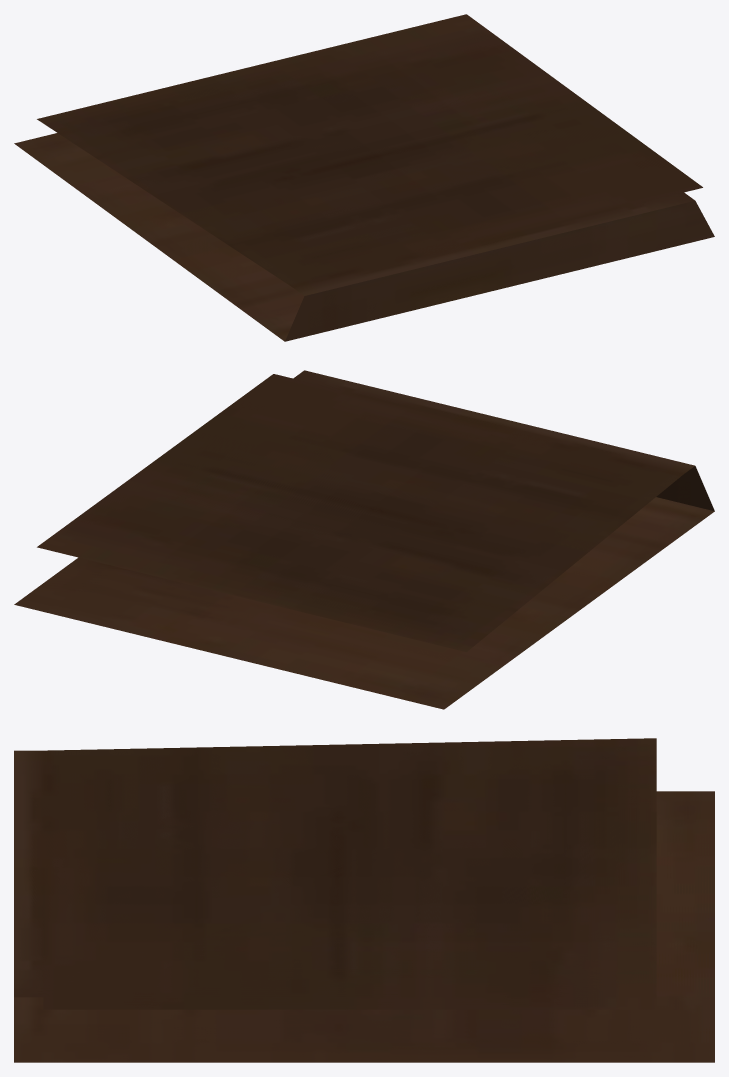
The model's file is link_8__shelf-11.glb.
3 views of the same model, one above another, from view 1: azimuth 30°, elevation 25°; view 2: azimuth 150°, elevation 25°; view 3: azimuth 270°, elevation 25° (orthographic). The views are drawn at different scales.
Parts seen in each view (by area): view 1: geometry_0; view 2: geometry_0; view 3: geometry_0.
Part boxes in pixels (x1,y1,x2,y2): geometry_0: [14, 14, 714, 341]; geometry_0: [14, 370, 714, 709]; geometry_0: [14, 738, 714, 1062].
Bounding box in the file's own units: 0.1155 × 0.0105 × 0.126.
1 material, 1 textured.
